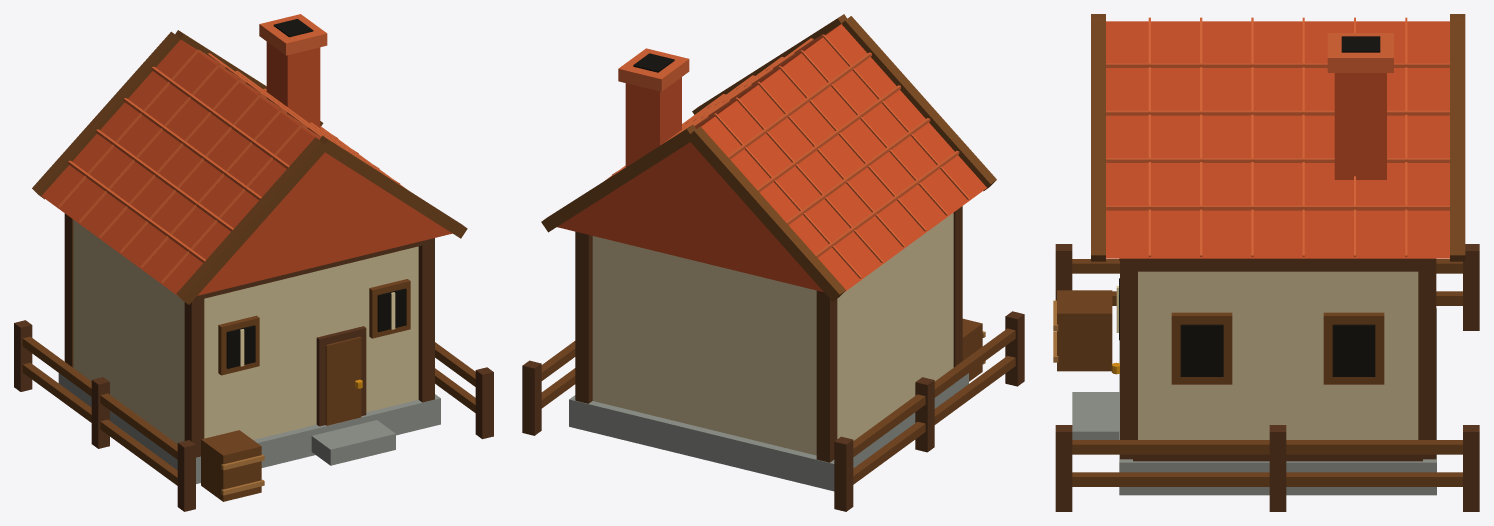
Rendered from house.glb.
3 renders of one model, left to right at view 1: azimuth 30°, elevation 25°; view 2: azimuth 150°, elevation 25°; view 3: azimuth 270°, elevation 25°, orthographic. The views are drawn at different scales.
Parts seen in each view (by area): view 1: Chimney, Walls, Side window frame, Garden post.002, Tile course.003, Foundation, Chimney opening, Crate band.001; view 2: Walls, Chimney, Side window frame, Garden post.002, Tile course.003, Foundation; view 3: Chimney, Walls, Side window frame, Garden post.002, Tile course.003, Foundation, Chimney opening.
Boxes of the visible parts, bbox=[...] form: Chimney: bbox=[41, 39, 452, 296]; Walls: bbox=[73, 220, 418, 443]; Side window frame: bbox=[22, 30, 475, 501]; Garden post.002: bbox=[14, 213, 493, 511]; Tile course.003: bbox=[58, 14, 405, 282]; Foundation: bbox=[58, 373, 440, 483]; Chimney opening: bbox=[226, 19, 406, 368]; Crate band.001: bbox=[221, 454, 264, 495]; Walls: bbox=[592, 213, 953, 455]; Chimney: bbox=[557, 24, 986, 292]; Side window frame: bbox=[541, 14, 1015, 484]; Garden post.002: bbox=[522, 206, 1024, 511]; Tile course.003: bbox=[605, 34, 969, 278]; Foundation: bbox=[569, 373, 968, 491]; Chimney: bbox=[1106, 21, 1449, 258]; Walls: bbox=[1138, 271, 1418, 439]; Side window frame: bbox=[1057, 14, 1465, 486]; Garden post.002: bbox=[1055, 244, 1479, 511]; Tile course.003: bbox=[1106, 17, 1449, 256]; Foundation: bbox=[1072, 308, 1436, 495]; Chimney opening: bbox=[1119, 36, 1380, 376].
Size of the model in its own units: 3.22 by 3.36 by 3.09.
